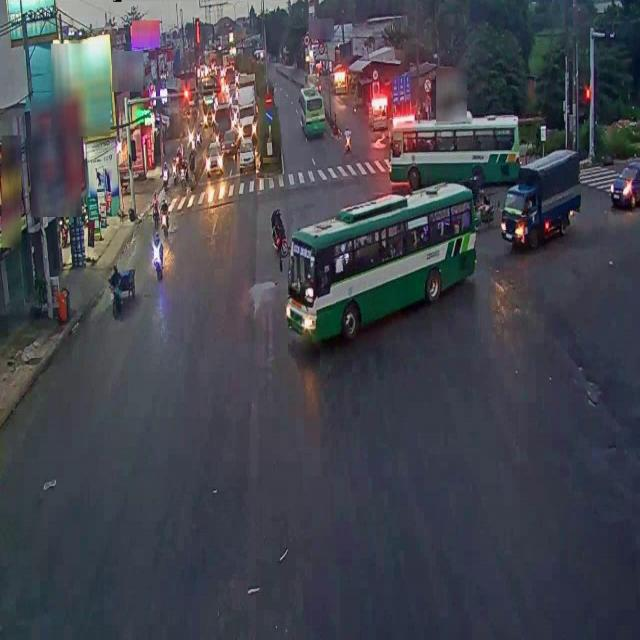bus: (283, 187, 484, 362)
motorcycle: (270, 206, 288, 261)
